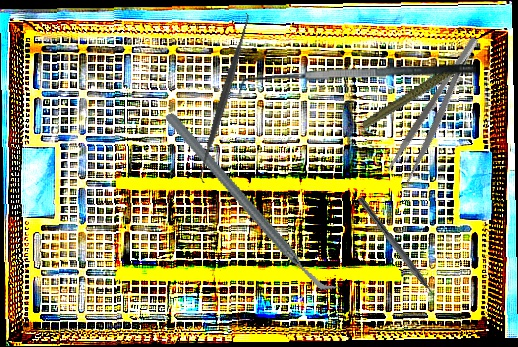Chopper: (162, 80, 342, 326), (350, 196, 443, 309)
Dressing Forceps: (385, 34, 493, 184)
Handpiece: (353, 56, 486, 130)
Spatula Surgical: (189, 11, 260, 185), (238, 62, 477, 99)
